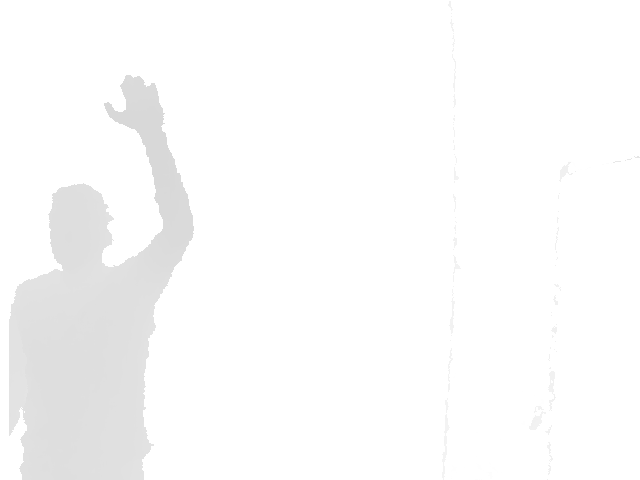hand: (103, 74, 167, 131)
head: (48, 183, 113, 268)
person: (8, 74, 196, 479)
